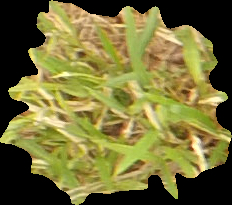grass: (1, 1, 231, 203)
